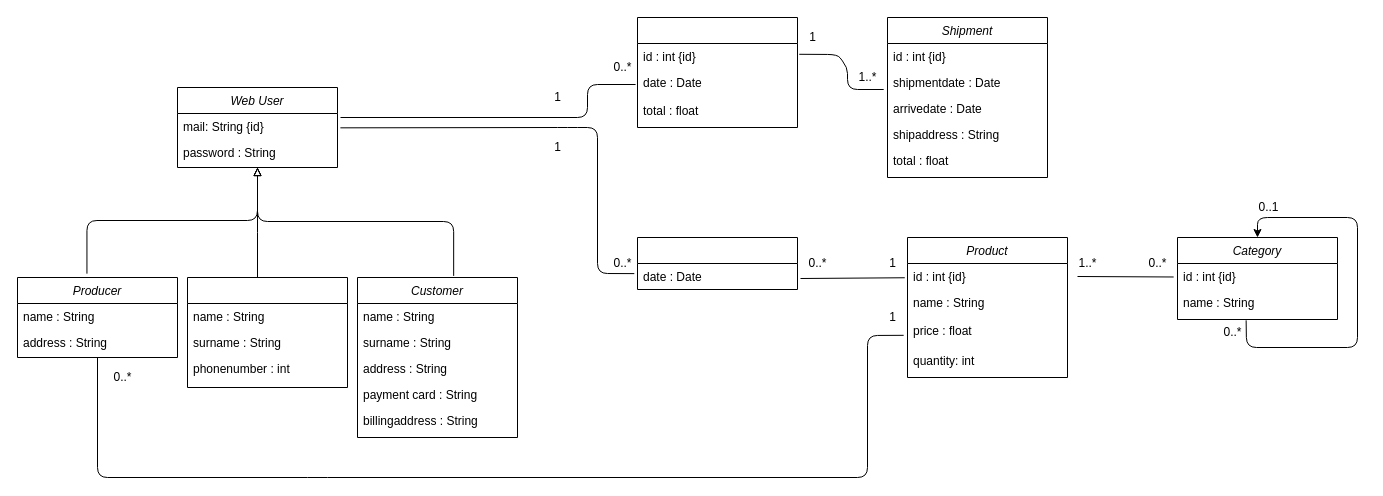
This 1383x496 diagram has some shape labels left out. The box of each missing label's shape, as (x1, y1, x2, y2) in pixels:
Admin: (186, 276, 348, 388)
Cart: (636, 236, 798, 290)
Order: (636, 16, 798, 128)
